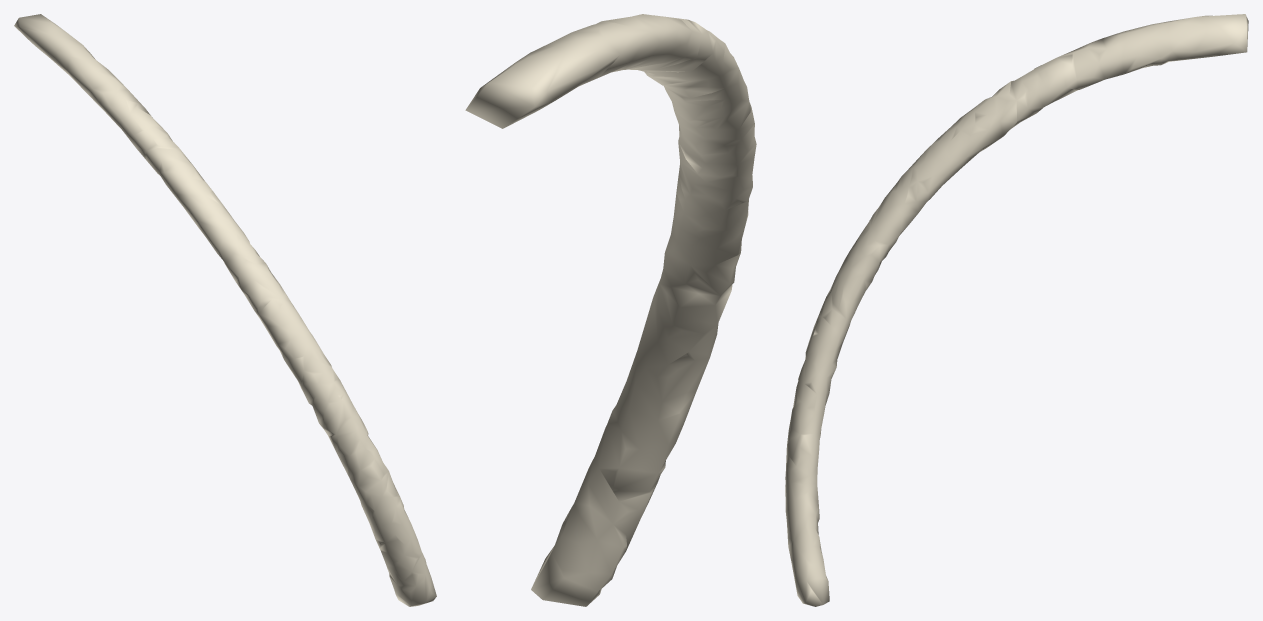
The model's file is rib_14_l.glb.
3 renders of one model, left to right at view 1: azimuth 30°, elevation 25°; view 2: azimuth 150°, elevation 25°; view 3: azimuth 270°, elevation 25°, orthographic. The views are drawn at different scales.
Parts seen in each view (by area): view 1: geometry_0; view 2: geometry_0; view 3: geometry_0.
Part boxes in pixels (box(x1,y1,x2,y2)): geometry_0: box(14, 14, 436, 606); geometry_0: box(465, 14, 756, 606); geometry_0: box(785, 14, 1248, 606).
Size of the model in its own units: 0.1968 by 0.4237 by 0.3627.
